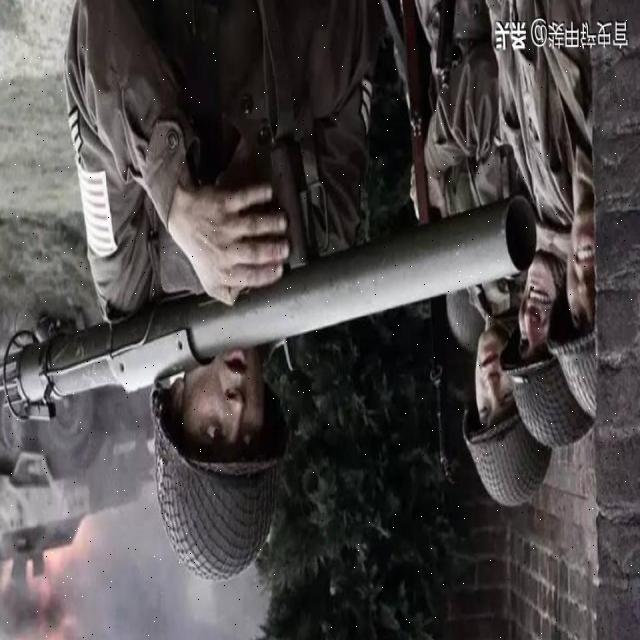bazooka: (1, 181, 549, 431)
